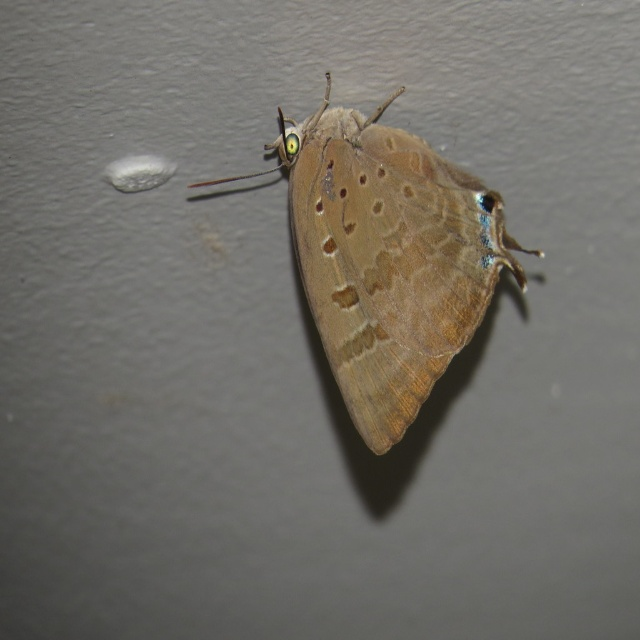Butterfly: (199, 68, 548, 478)
